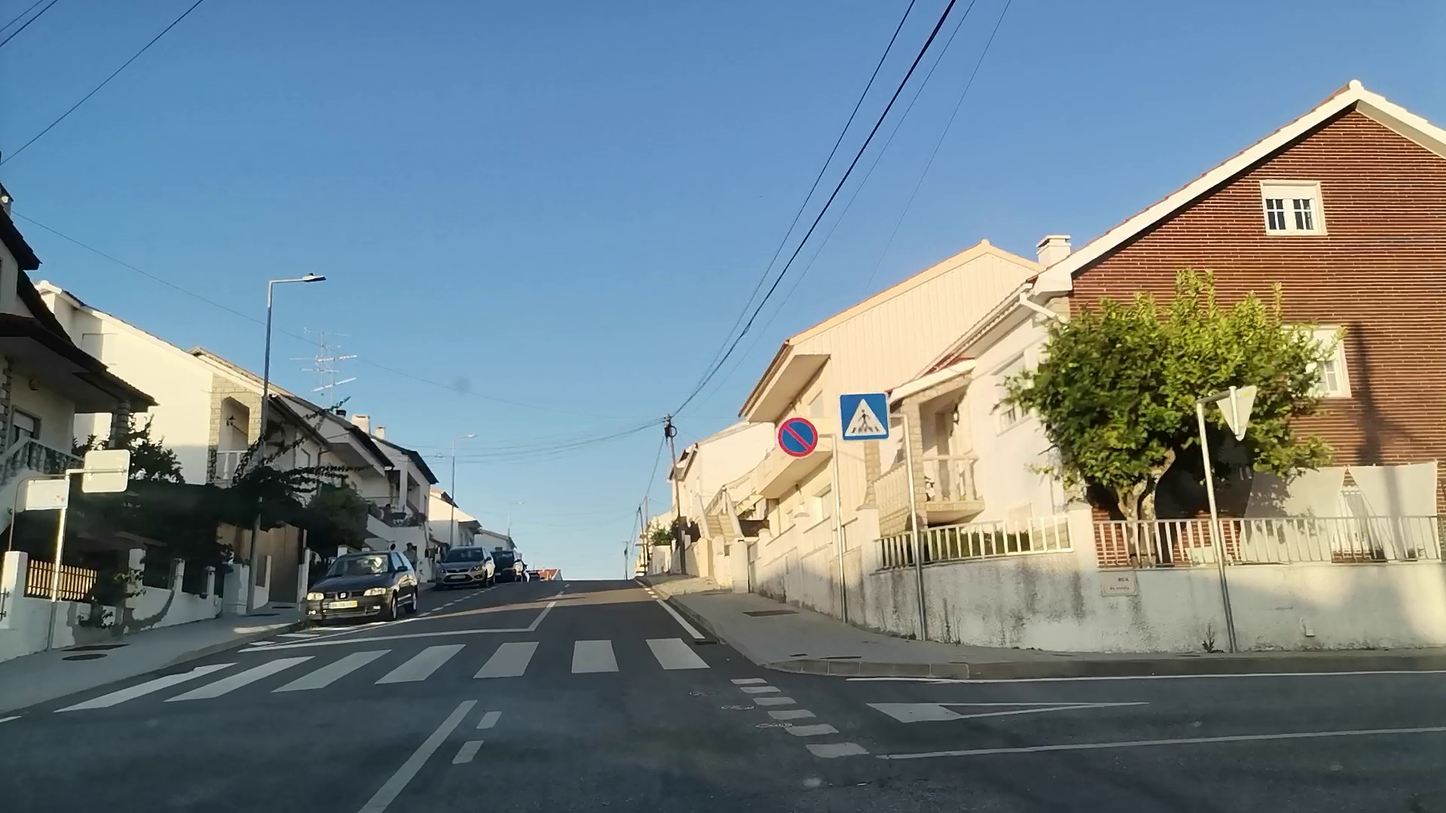Stairs: (66, 634, 722, 709)
